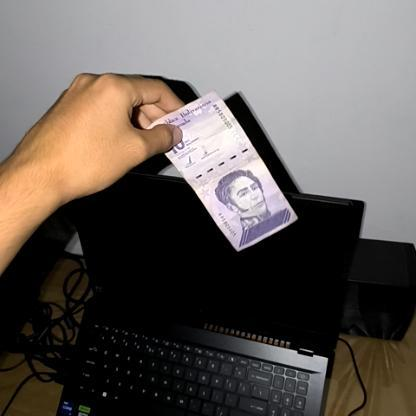vef_front: (138, 88, 300, 252)
